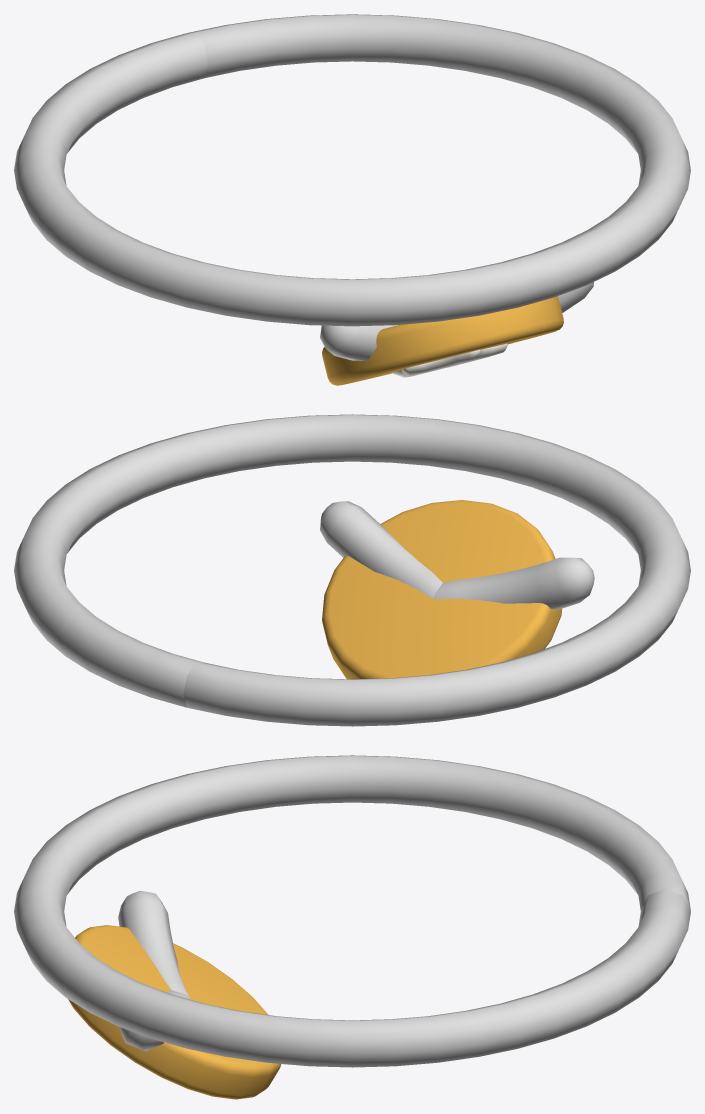
Rendered from medal.glb.
3 renders of one model, top to bottom at view 1: azimuth 30°, elevation 25°; view 2: azimuth 150°, elevation 25°; view 3: azimuth 270°, elevation 25°, orthographic.
Parts seen in each view (by area): view 1: medal; view 2: medal; view 3: medal.
Part boxes in pixels (box(x1,y1,x2,y2)): medal: box(14, 14, 690, 385); medal: box(14, 414, 690, 726); medal: box(14, 755, 690, 1099).
Size of the model in its own units: 0.9449 by 0.2939 by 0.9448.
